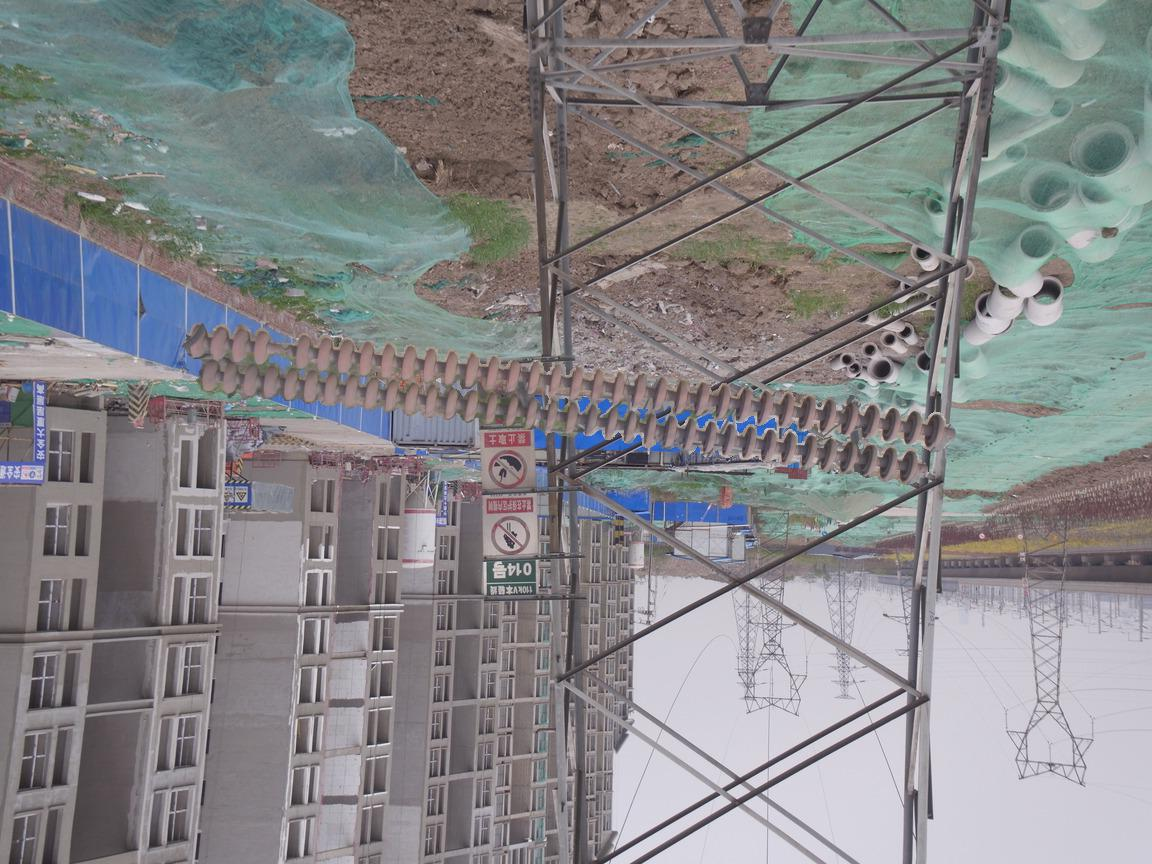insulator: (178, 319, 954, 488)
insulator_stringdrop: (248, 328, 315, 373)
